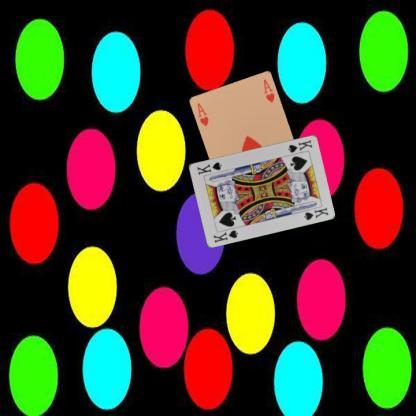Ah: (194, 101, 210, 128)
Ks: (210, 227, 240, 244), (285, 137, 314, 154)
